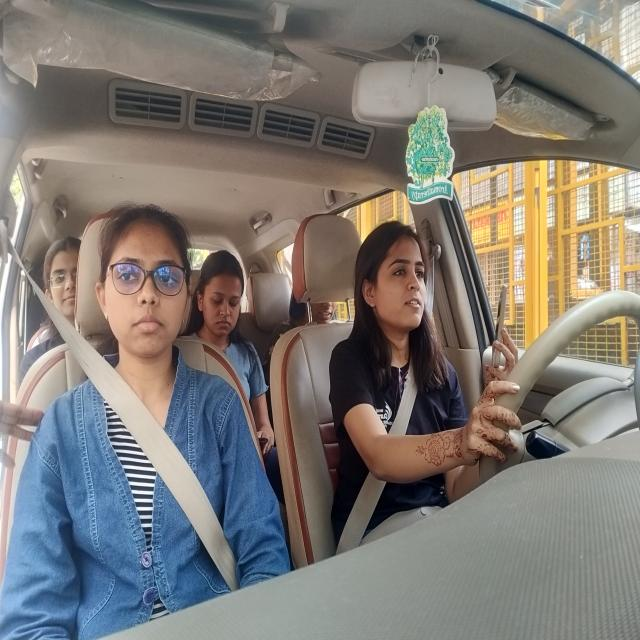mobile: (489, 277, 515, 375)
person: (100, 192, 194, 373), (348, 233, 434, 329), (42, 238, 84, 332), (204, 253, 244, 333)
